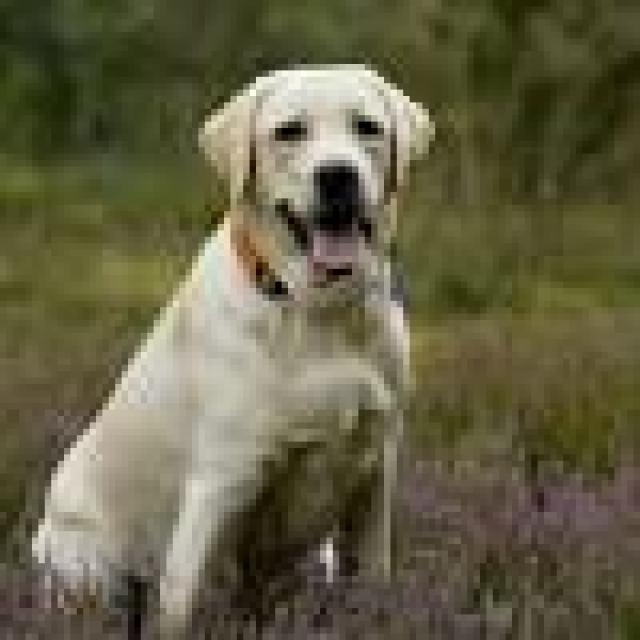Dog: (19, 57, 441, 640)
